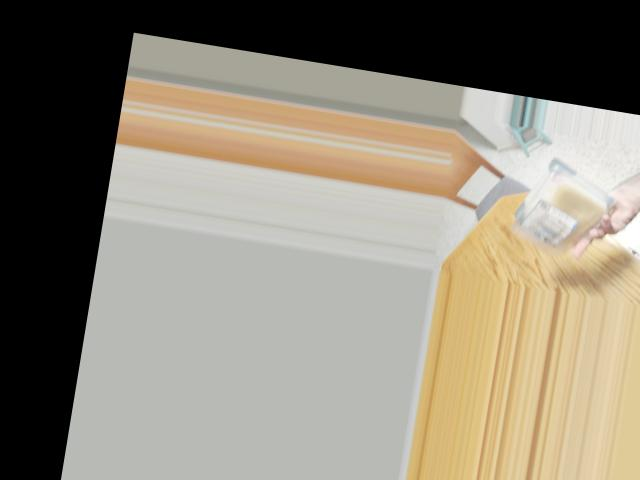cheese: (503, 157, 617, 252)
